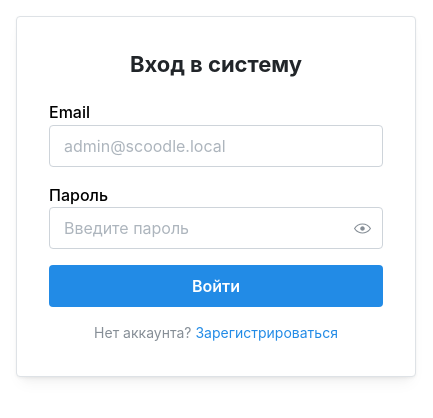
LoginPage (без react-hook-form/zod — TD-002 ит.4) › невалидный email → ошибка поля, запрос не уходит
In the field labelled "Email": (216, 146) [49,125,383,167], type "not-an-email"
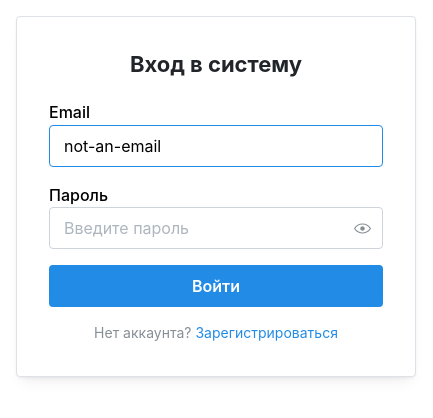
In the password field labelled "Пароль": (216, 228) [50,208,382,248], type "secret"
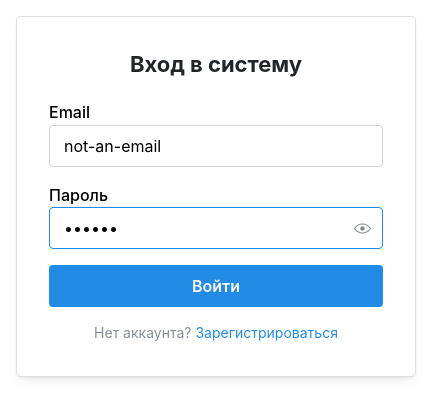
Click the button "Войти": (216, 286) [49,265,383,307]
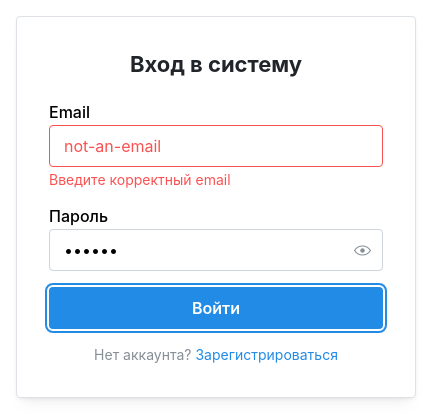
Result: the text "Введите корректный email" is shown at [49,171,231,188]
